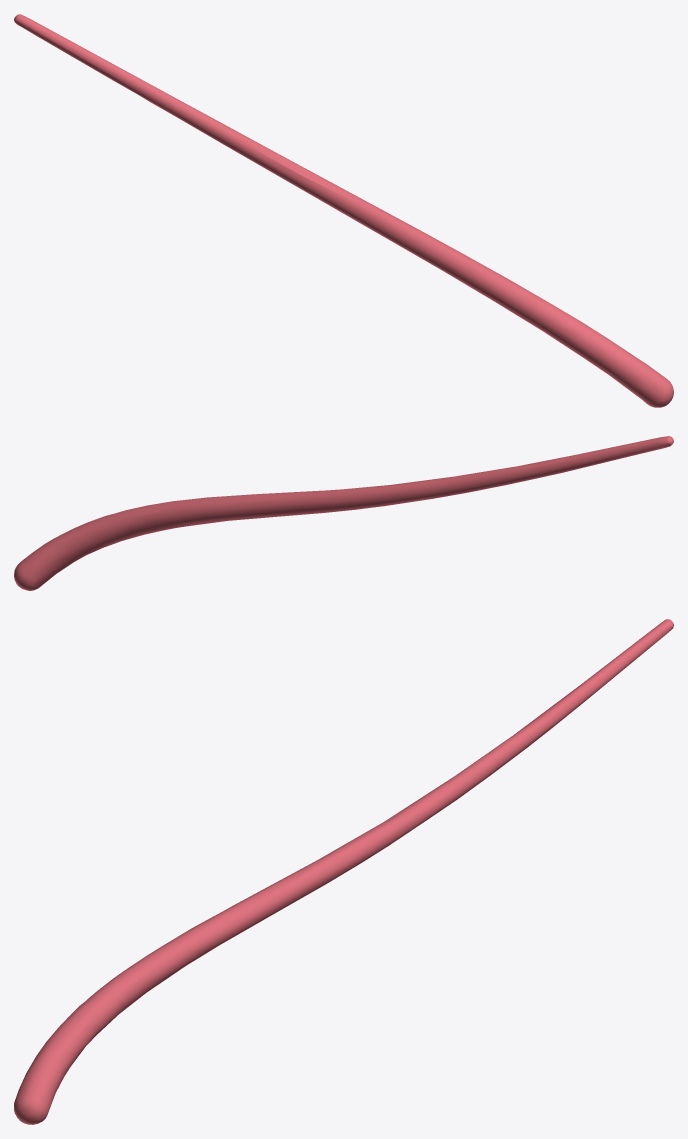
Rendered from fma79516_fj5209.glb.
3 views of the same model, one above another, from view 1: azimuth 30°, elevation 25°; view 2: azimuth 210°, elevation 25°; view 3: azimuth 270°, elevation 25° (orthographic). The views are drawn at different scales.
Parts seen in each view (by area): view 1: FMA79516_FJ5209; view 2: FMA79516_FJ5209; view 3: FMA79516_FJ5209.
Boxes of the visible parts, <box> form: FMA79516_FJ5209: <box>14,14,673,407</box>; FMA79516_FJ5209: <box>14,436,673,590</box>; FMA79516_FJ5209: <box>14,619,673,1124</box>.
Bounding box in the file's own units: 0.0188 × 0.013 × 0.0254.
